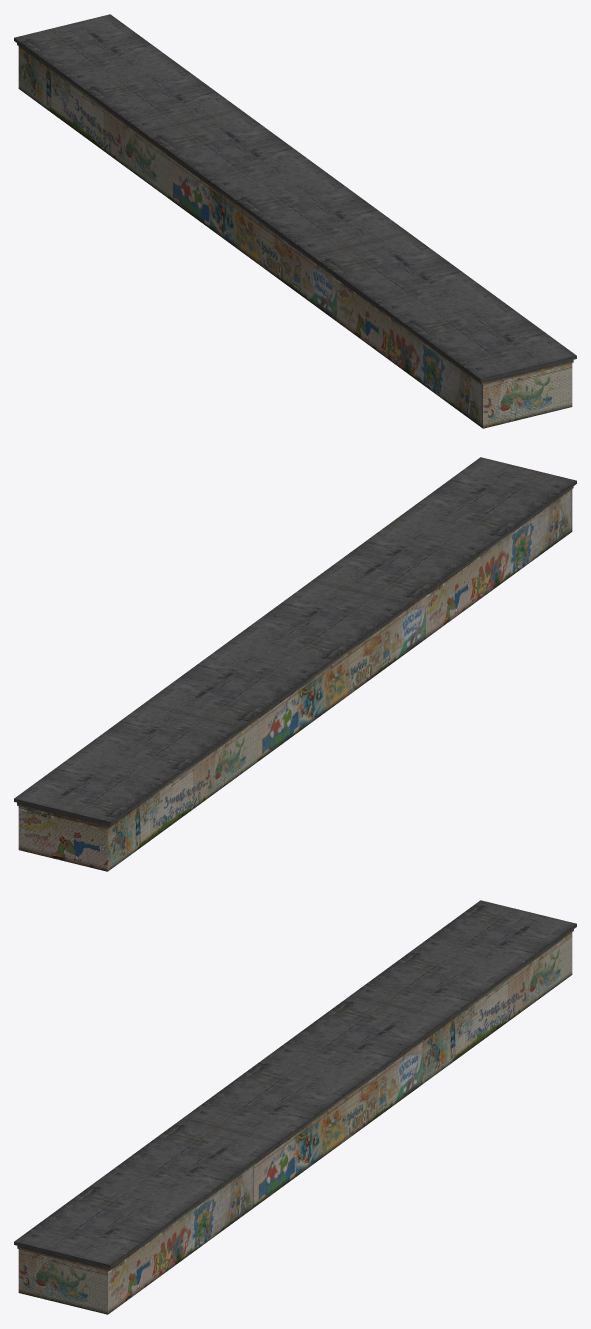
File: r402_ishim_stena.FBX
3 renders of one model, top to bottom at view 1: azimuth 30°, elevation 25°; view 2: azimuth 150°, elevation 25°; view 3: azimuth 330°, elevation 25°, orthographic.
Parts seen in each view (by area): view 1: r402_ishim_stena; view 2: r402_ishim_stena; view 3: r402_ishim_stena.
Part boxes in pixels (x1,y1,x2,y2): r402_ishim_stena: (14,14,576,428); r402_ishim_stena: (14,457,576,871); r402_ishim_stena: (14,900,576,1314).
Bounding box in the file's own units: 766 × 6420 × 388.
